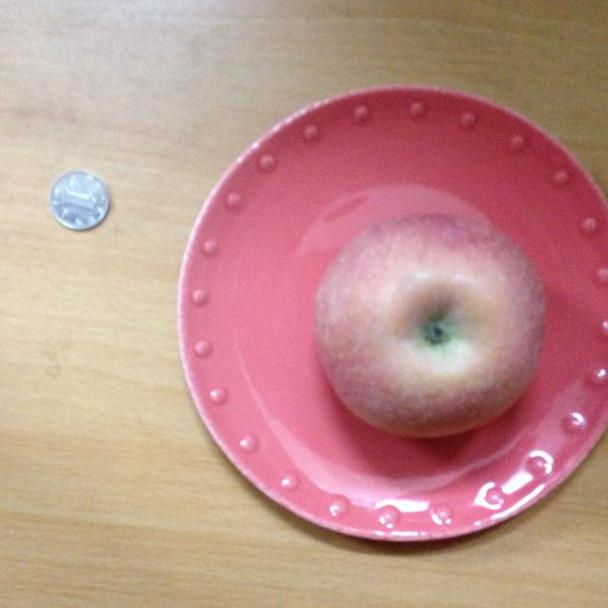apple: (312, 212, 548, 439)
